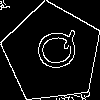Q: (27, 28, 80, 73)
